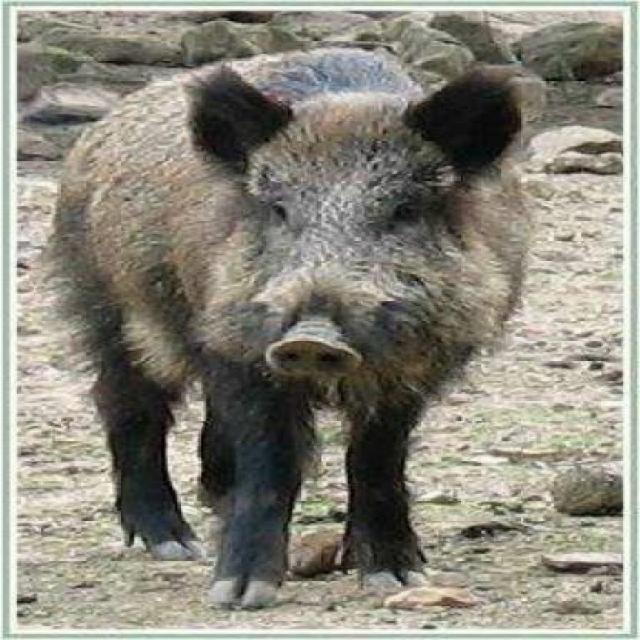Boar: (40, 0, 541, 632)
